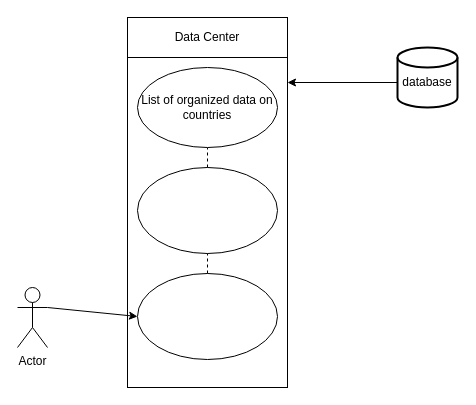
Some shapes in this 476 by 405 pixel diagram are drawn without their labels. The centre of each missing label's shape, as x and y in pixels:
"Population, language, city data" belongs at (207,210).
"Report on countries" belongs at (207,316).
